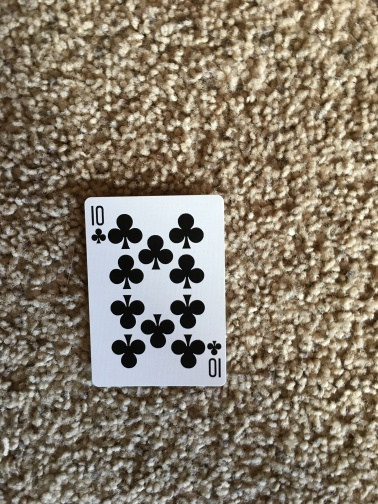ten: (81, 192, 229, 388)
